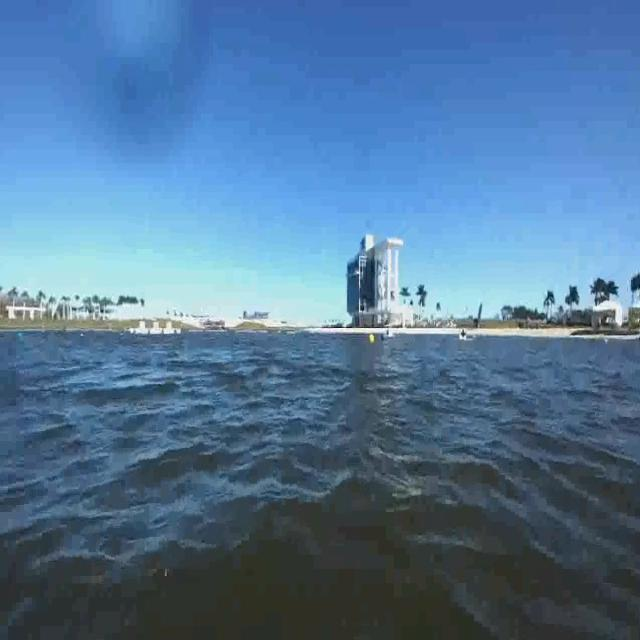yellow-buoy: (368, 334, 375, 346)
